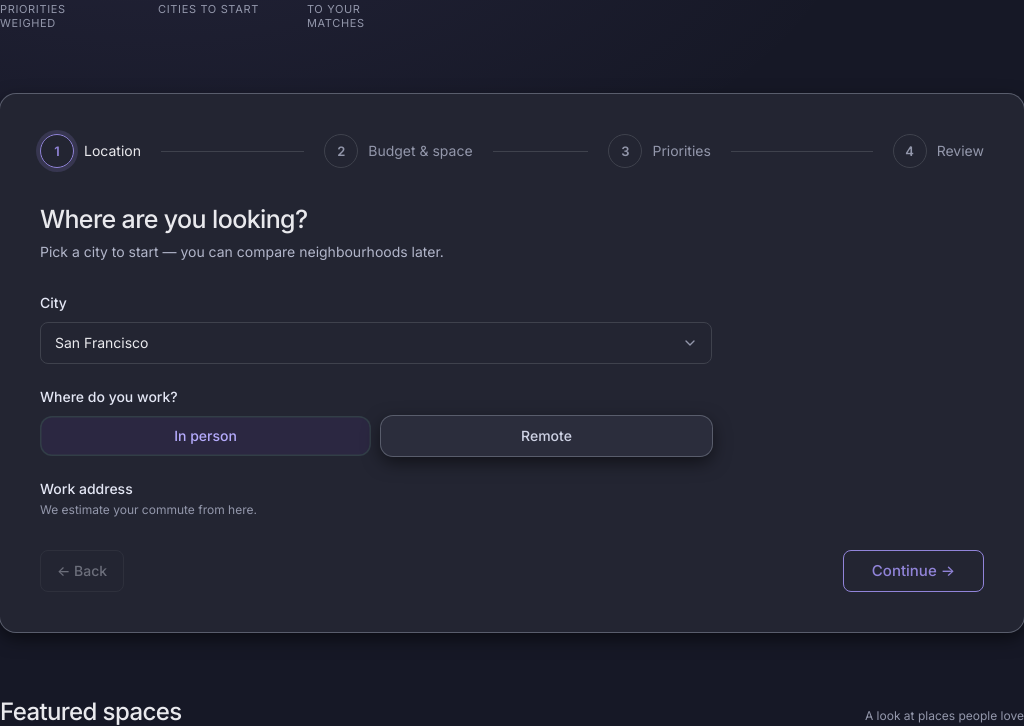
Test: search wizard › carries the user’s answers through to the review summary
(page scrolled)
Select "Austin" in the dropdown labelled "City": (376, 343) [40,322,712,364]
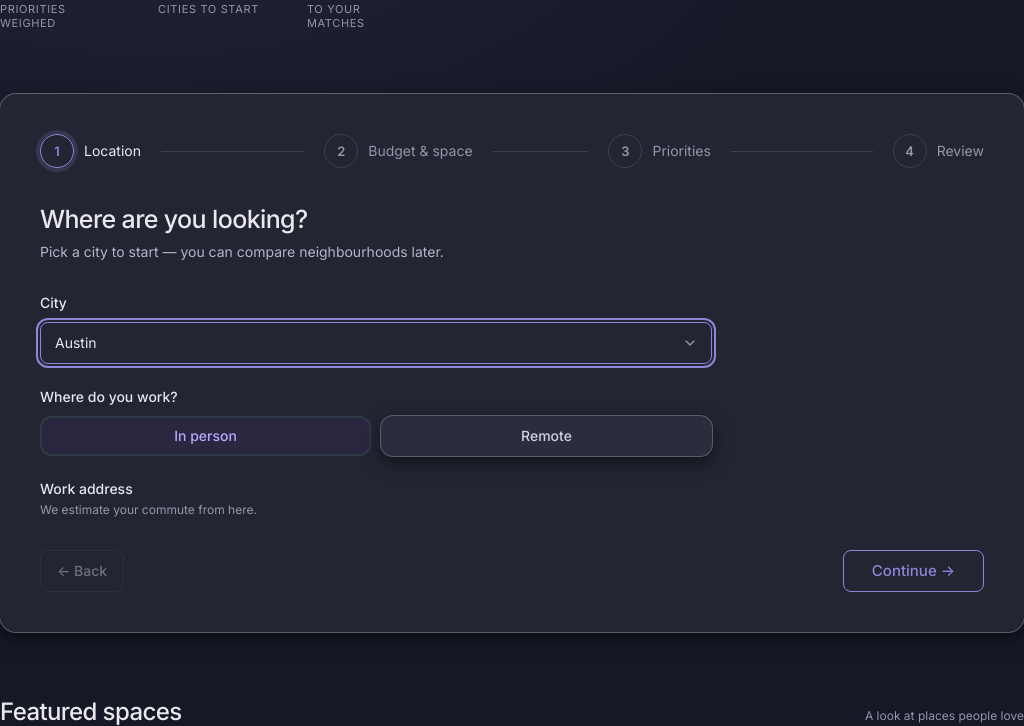
Click the button "Continue →": (913, 571) [843,550,984,592]
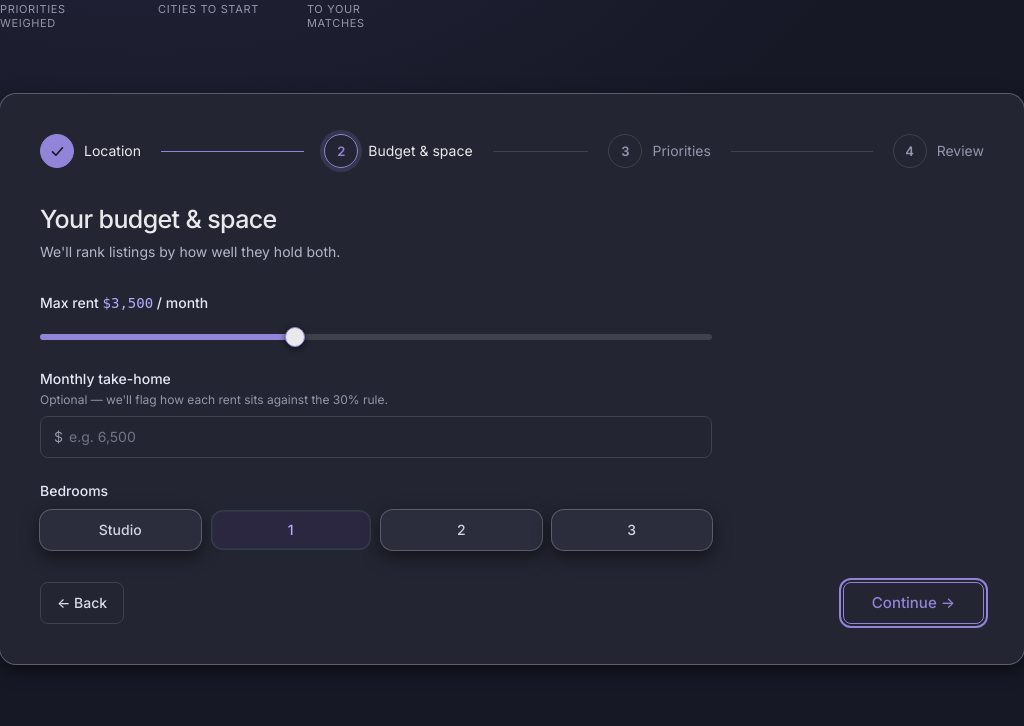
Click the button "Continue →": (913, 603) [843,582,984,624]
(page scrolled)
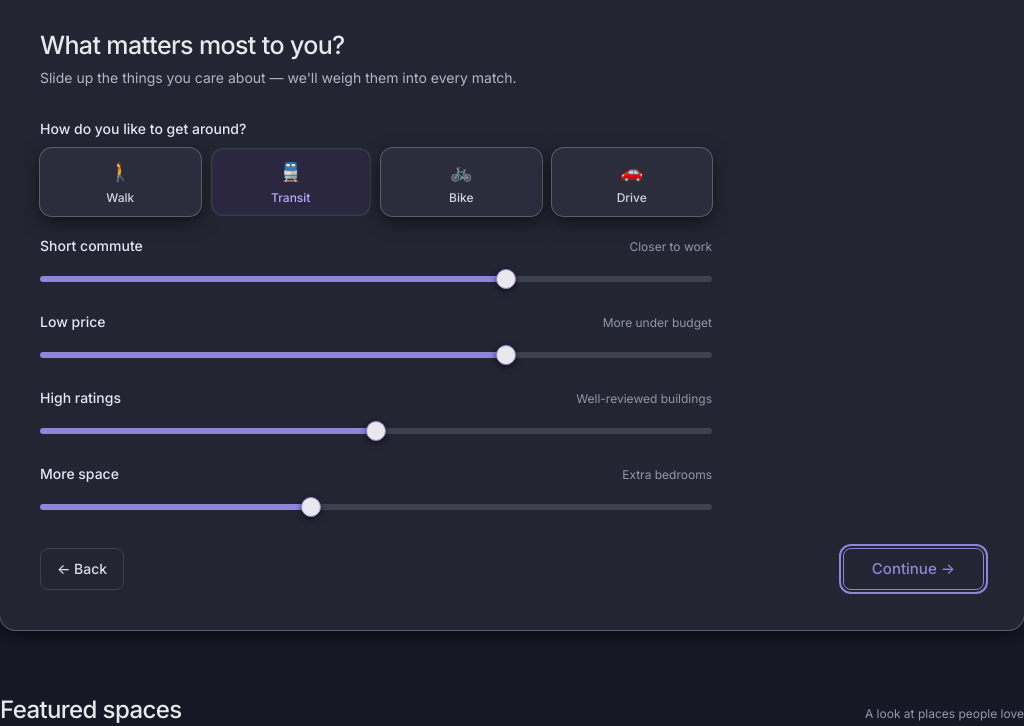
Click the button "Continue →": (913, 569) [843,548,984,590]
(page scrolled)
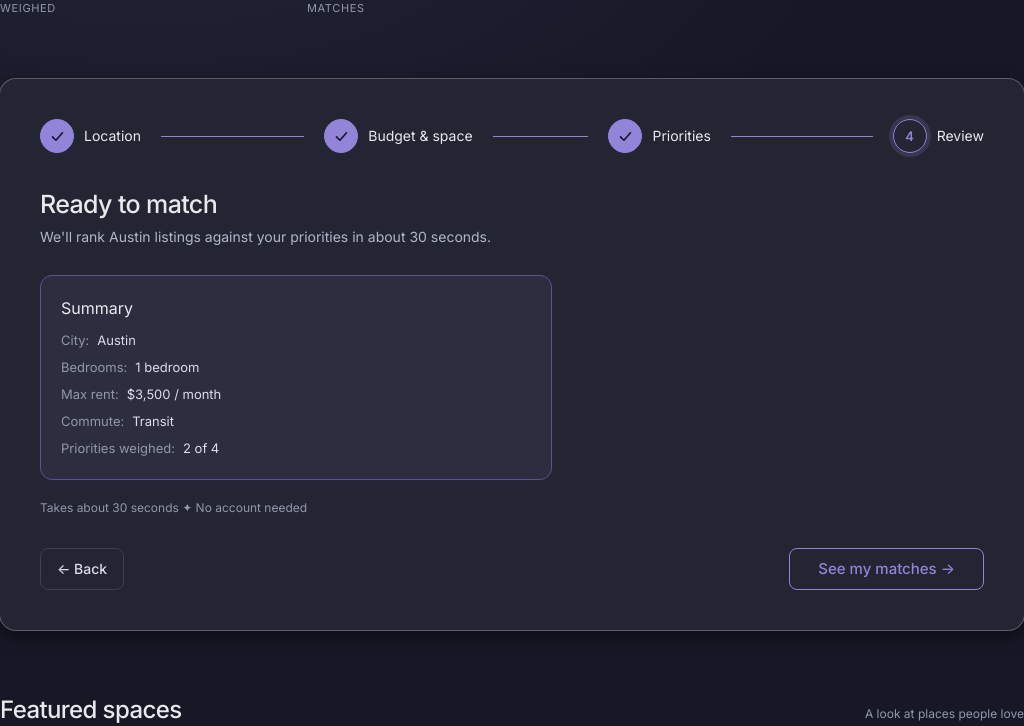
Expected: the heading "Ready to match" is shown, [40,189,217,219]
Expected: the text "Austin" is shown, [97,330,136,351]
